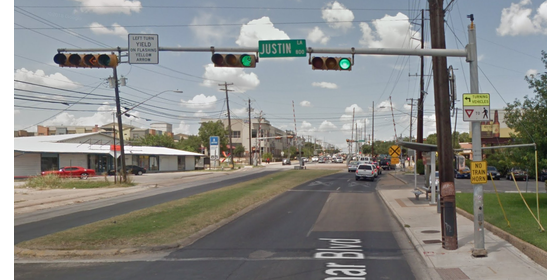left turn yield on flashing yellow arrow sign: (127, 27, 160, 69)
no train horn sign: (467, 159, 490, 187)
street name sign: (256, 39, 307, 58)
turning vehicle yield to ped sign: (456, 89, 496, 125)
